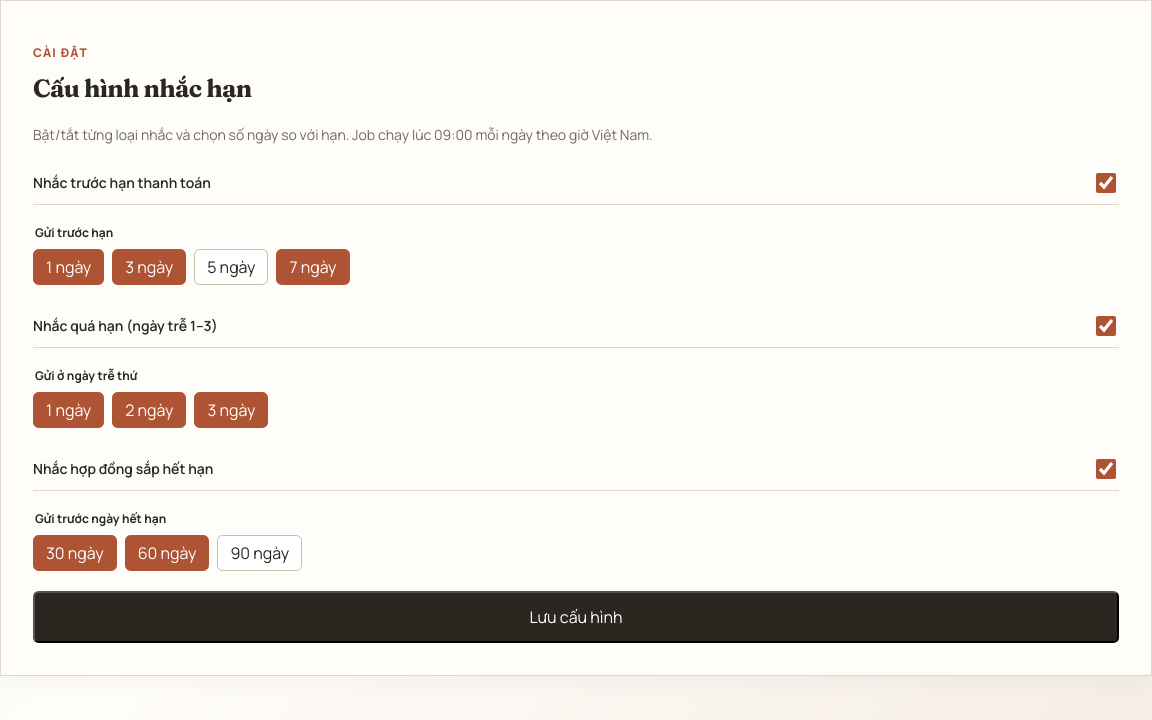
ReminderSettingsCard › loads settings and saves toggled days
The image size is (1152, 720).
Check: the button "Lưu cấu hình" is enabled, box [33,591,1119,642]
Click the button "3 ngày" below "Gửi trước hạn" at (149, 267), box [112,249,186,285]
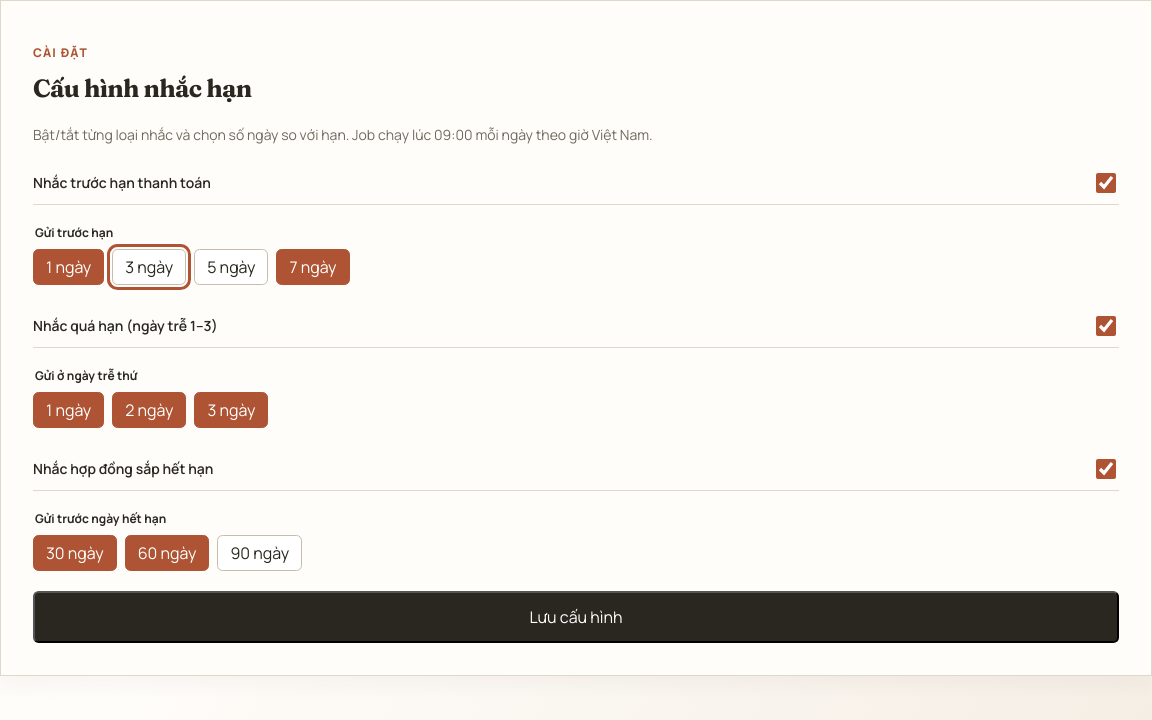
Click the button "Lưu cấu hình" at (576, 617), box [33,591,1119,642]
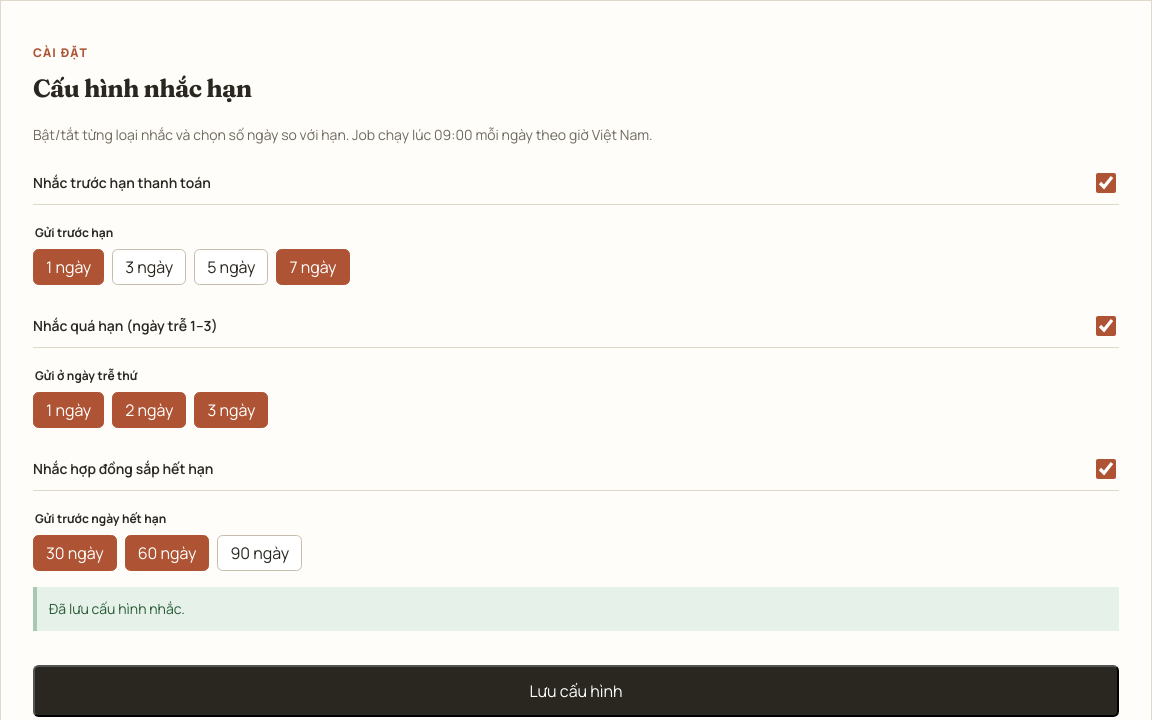
Check: the text "Đã lưu cấu hình nhắc." is shown, box [33,587,1119,631]
